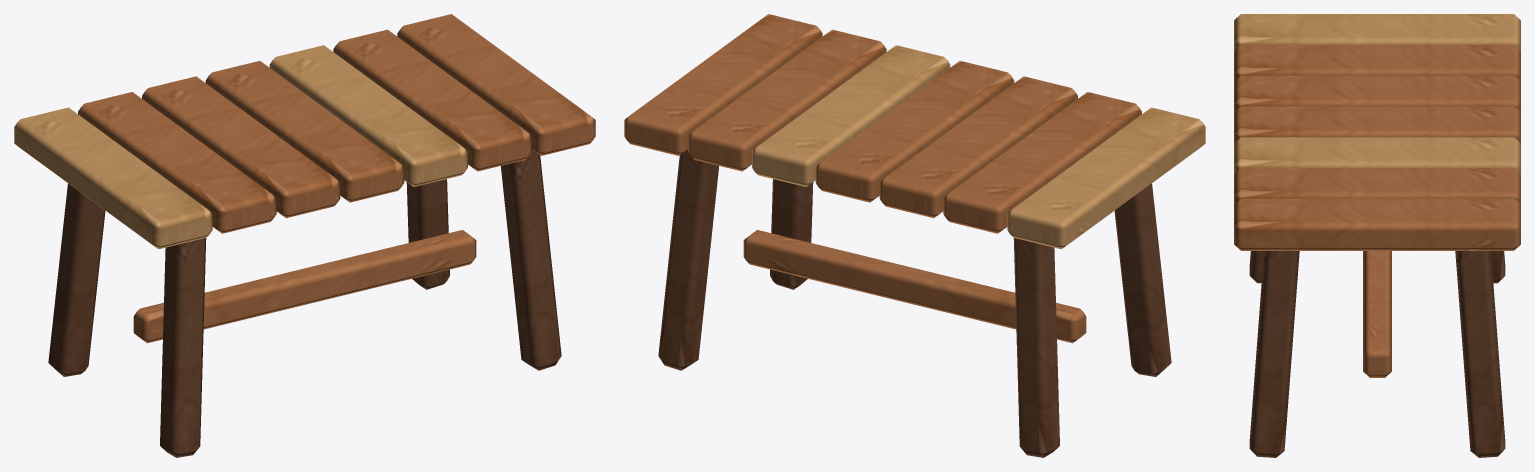
The model's file is SM_Table.glb.
3 views of the same model, side by side, from view 1: azimuth 30°, elevation 25°; view 2: azimuth 150°, elevation 25°; view 3: azimuth 270°, elevation 25° (orthographic).
Parts seen in each view (by area): view 1: SM_Table; view 2: SM_Table; view 3: SM_Table.
Part boxes in pixels (x1=…): SM_Table: x1=14, y1=14, x2=595, y2=457; SM_Table: x1=624, y1=14, x2=1205, y2=457; SM_Table: x1=1234, y1=14, x2=1520, y2=457.
Size of the model in its own units: 1.59 by 0.8643 by 0.9.
Materials: 1 (1 with a texture image).
